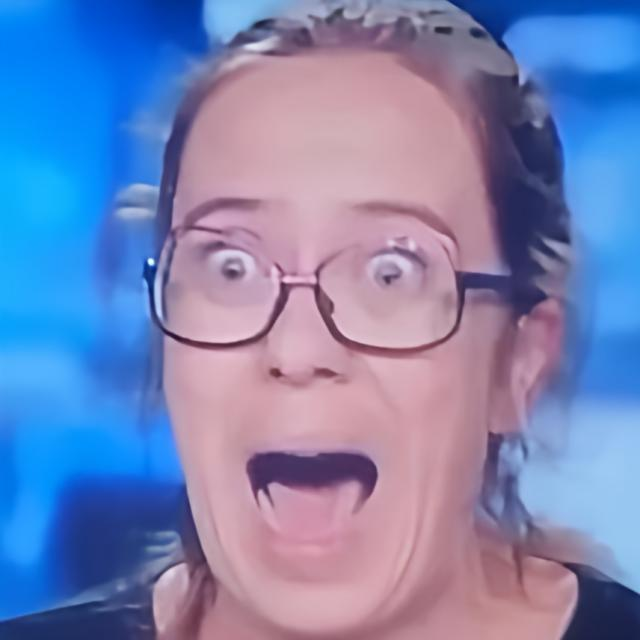fear: (159, 41, 507, 640)
